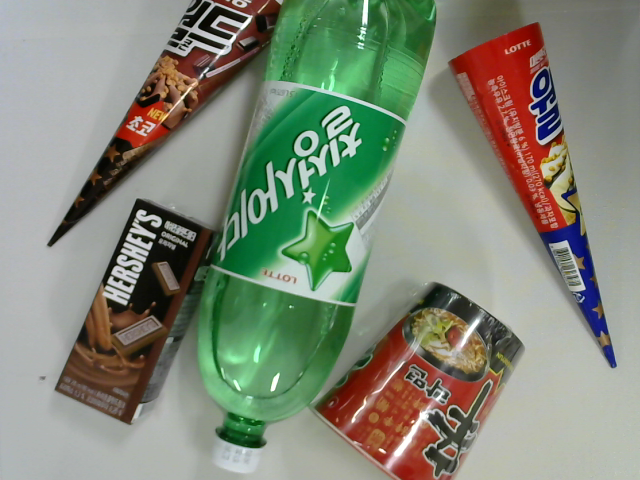Chilseong_Cider_1.5L: (195, 1, 438, 475)
Choco_E_Mong: (53, 196, 221, 433)
Sinramen_small: (304, 281, 529, 480)
World_Cone_Banila: (446, 19, 619, 369)
World_Cone_Choco: (45, 1, 280, 250)
